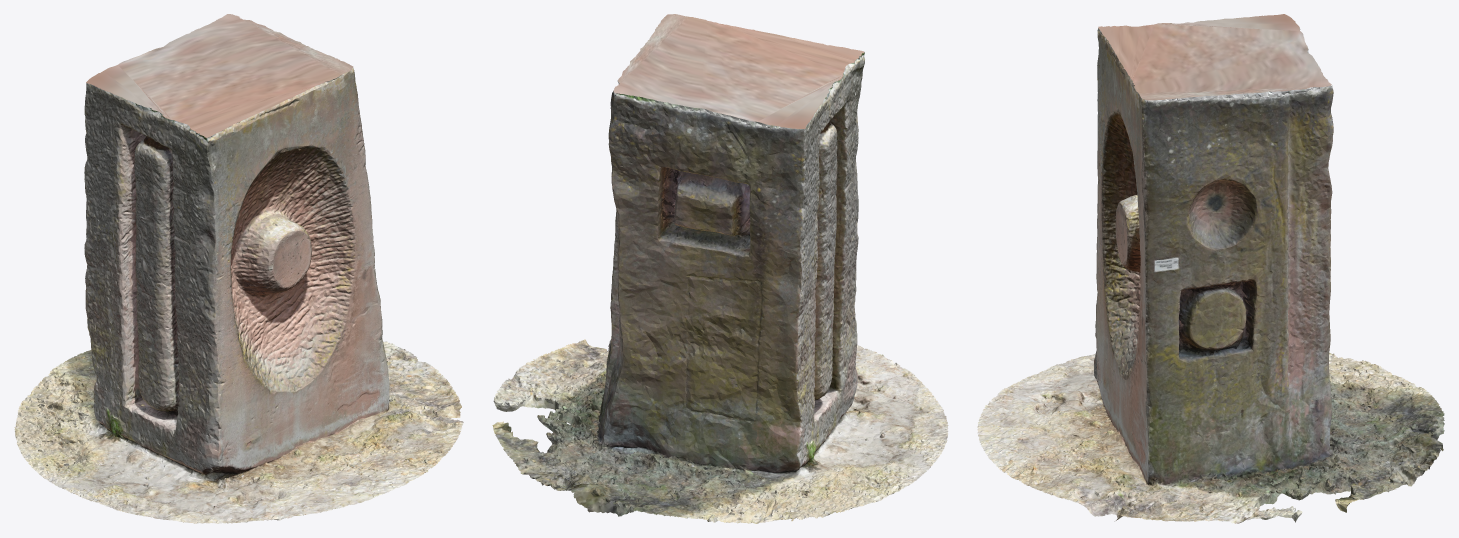
The picture shows the model from 3 angles, left to right: view 1: azimuth 30°, elevation 25°; view 2: azimuth 150°, elevation 25°; view 3: azimuth 270°, elevation 25°; orthographic projection. The views are drawn at different scales.
Parts seen in each view (by area): view 1: 2k.50k; view 2: 2k.50k; view 3: 2k.50k.
Boxes of the visible parts, x1,y1,x2,y2 form: 2k.50k: (14, 14, 463, 523); 2k.50k: (492, 14, 948, 523); 2k.50k: (977, 14, 1444, 523).
Size of the model in its own units: 3.38 by 3.11 by 3.39.
Materials: 1 (1 with a texture image).
